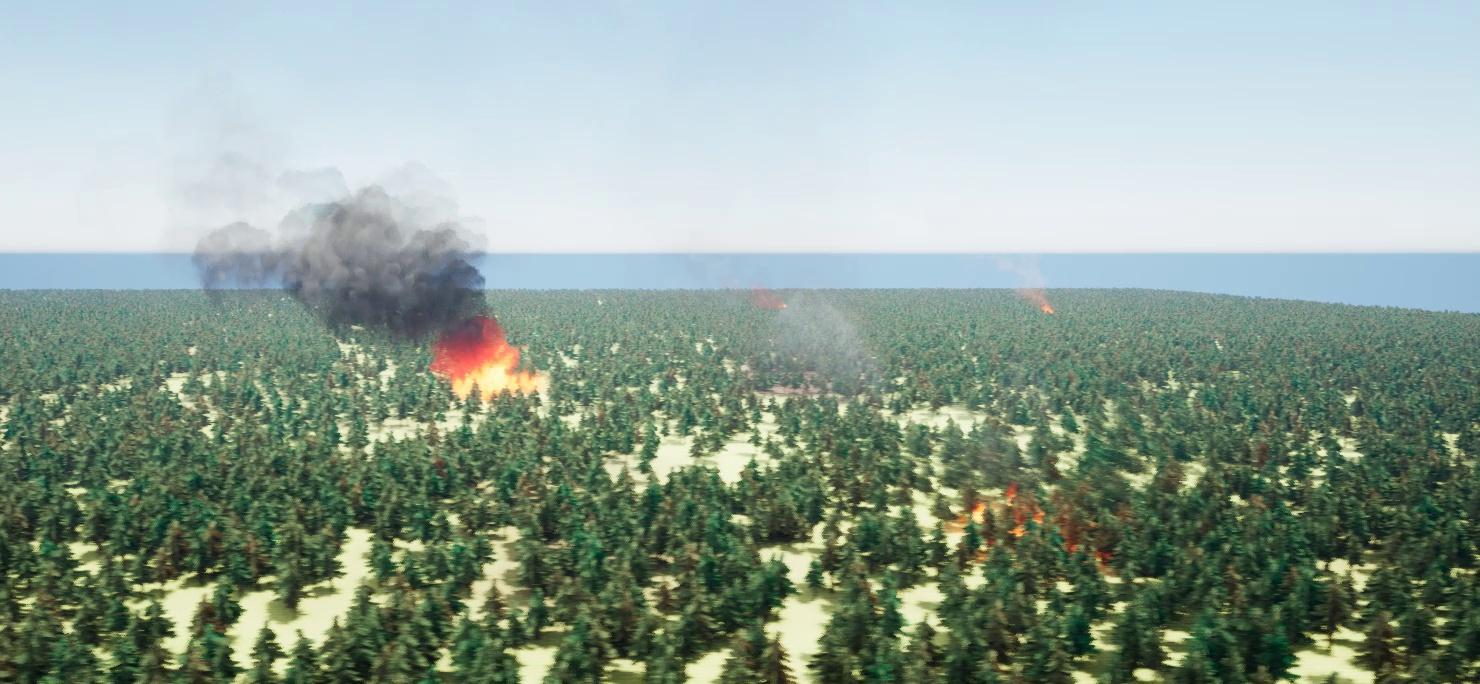fire: (956, 479, 1113, 556), (431, 318, 548, 401)
smoke: (181, 145, 500, 353), (747, 279, 878, 397), (997, 256, 1057, 310)
